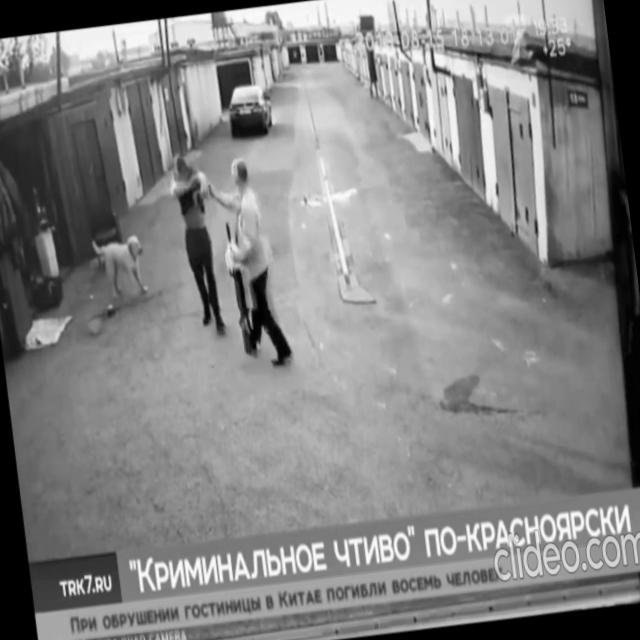gun: (222, 212, 258, 358)
person: (167, 147, 231, 342)
person with a gun: (205, 148, 297, 376)
